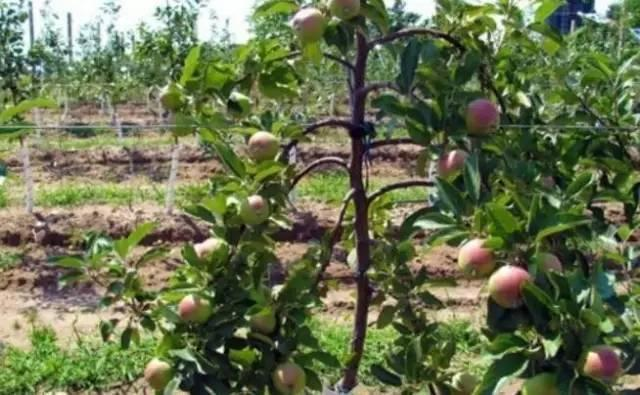apple: (487, 264, 531, 307), (456, 236, 494, 275), (582, 347, 621, 379), (290, 9, 326, 42), (177, 293, 210, 324), (246, 130, 278, 160), (239, 194, 269, 224)
